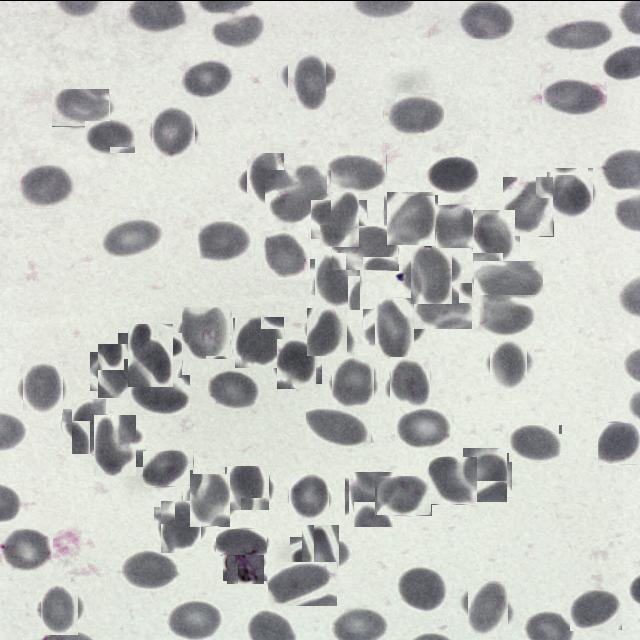red blood cell: (265, 169, 331, 224), (268, 561, 338, 606), (503, 176, 554, 236), (122, 328, 178, 382), (332, 225, 399, 270), (474, 260, 544, 302), (414, 282, 473, 329), (306, 406, 372, 448), (368, 302, 421, 354), (89, 419, 141, 471), (346, 472, 398, 523), (180, 306, 231, 358), (386, 192, 436, 244), (384, 92, 444, 135), (163, 597, 223, 640), (18, 164, 76, 208), (233, 316, 284, 366), (312, 256, 363, 306), (395, 406, 454, 449), (476, 294, 535, 337), (542, 78, 608, 116), (296, 530, 346, 580), (406, 248, 456, 298), (396, 564, 450, 610), (0, 527, 54, 573), (102, 218, 164, 258), (129, 374, 190, 414), (197, 220, 253, 263), (460, 449, 509, 498), (150, 106, 198, 156), (120, 549, 179, 589), (429, 456, 478, 504), (327, 154, 387, 193), (261, 231, 309, 279), (283, 56, 331, 104), (330, 358, 378, 406), (464, 584, 512, 632), (375, 475, 432, 515), (157, 502, 204, 550), (315, 195, 363, 242), (186, 476, 233, 524), (549, 169, 596, 216), (94, 347, 141, 394), (470, 212, 518, 258), (52, 88, 110, 126), (570, 589, 623, 630), (180, 58, 234, 98), (206, 369, 260, 409), (20, 364, 66, 410), (36, 584, 82, 630), (274, 340, 320, 386), (426, 155, 480, 193), (509, 424, 563, 462), (459, 1, 514, 38), (286, 474, 331, 519), (67, 403, 112, 448), (304, 308, 350, 352), (388, 358, 432, 403), (547, 20, 613, 50), (487, 341, 531, 385), (244, 156, 288, 200), (143, 450, 194, 486), (226, 466, 269, 508), (599, 421, 640, 464), (213, 12, 264, 46), (85, 120, 136, 153), (434, 204, 474, 246), (216, 528, 267, 554)
trophozoite: (225, 542, 265, 582)
